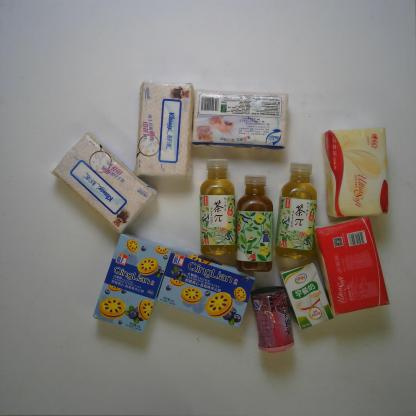Canned Food: (247, 284, 298, 355)
Dessert: (154, 242, 260, 333), (92, 228, 173, 336)
Drink: (193, 158, 240, 262), (278, 160, 322, 262), (235, 173, 277, 273)
Milk: (276, 260, 338, 332)
Tissue: (47, 134, 159, 238), (310, 214, 393, 316), (318, 124, 395, 222), (186, 84, 293, 154), (132, 77, 199, 182)
